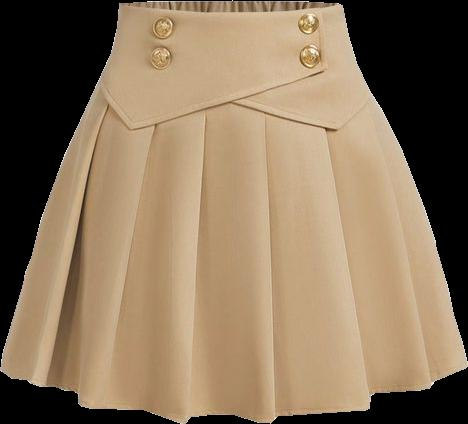Hemline: (0, 364, 467, 423)
Waistline: (96, 79, 375, 134), (118, 1, 340, 16)
